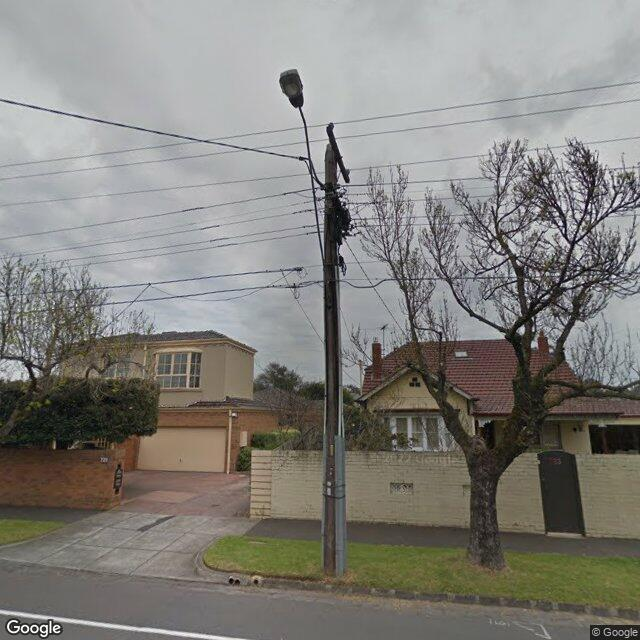HV-transmission: (329, 122, 350, 174)
crossarm: (327, 126, 350, 184)
streetlight: (279, 68, 328, 271)
timber-pole: (322, 148, 347, 577)
